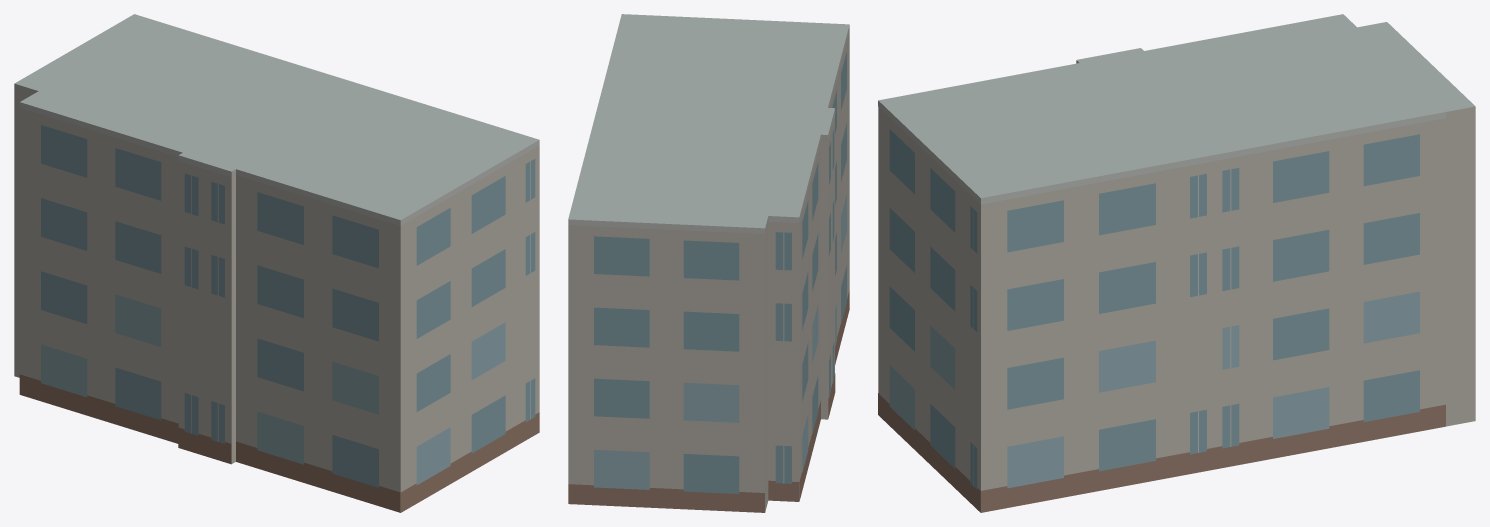
Rendered from survey-upis-32747471.glb.
3 renders of one model, left to right at view 1: azimuth 30°, elevation 25°; view 2: azimuth 150°, elevation 25°; view 3: azimuth 270°, elevation 25°, orthographic. The views are drawn at different scales.
Visible parts, largest first — view 1: survey-upis-32747471.tmp; view 2: survey-upis-32747471.tmp; view 3: survey-upis-32747471.tmp.
Boxes of the visible parts, x1=… form: survey-upis-32747471.tmp: x1=14, y1=14, x2=539, y2=512; survey-upis-32747471.tmp: x1=568, y1=14, x2=849, y2=512; survey-upis-32747471.tmp: x1=878, y1=14, x2=1475, y2=512.
Size of the model in its own units: 15.71 by 12.5 by 21.53.
